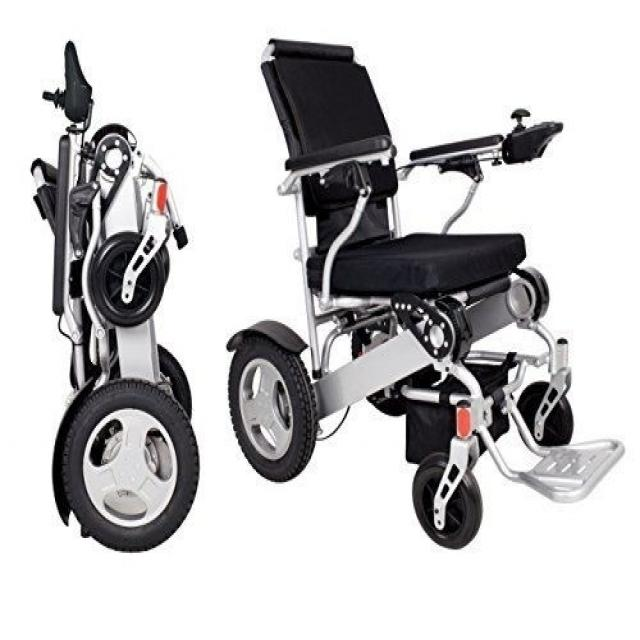wheelchair: (228, 29, 640, 597), (10, 20, 222, 590)
